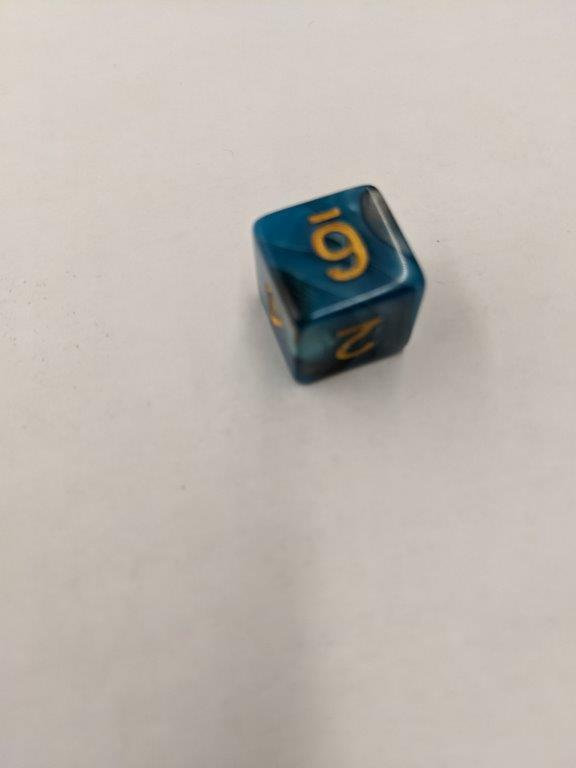d6-6: (253, 182, 424, 390)
